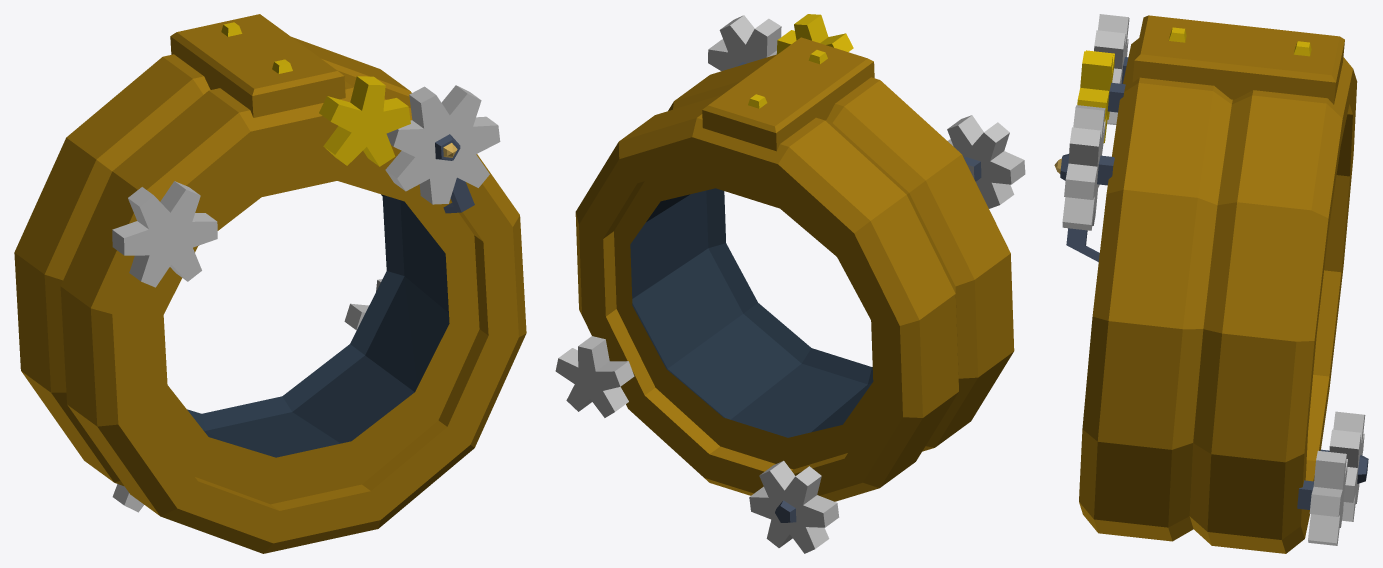
Rendered from stage3_gear_accent_ring.glb.
3 views of the same model, side by side, from view 1: azimuth 30°, elevation 25°; view 2: azimuth 150°, elevation 25°; view 3: azimuth 270°, elevation 25° (orthographic). The views are drawn at different scales.
Parts seen in each view (by area): view 1: index-proximal; view 2: index-proximal; view 3: index-proximal.
Boxes of the visible parts, x1,y1,x2,y2 form: index-proximal: (14,14,526,553); index-proximal: (555,14,1025,553); index-proximal: (1054,14,1368,553).
Size of the model in its own units: 0.0299 by 0.0329 by 0.0183.
